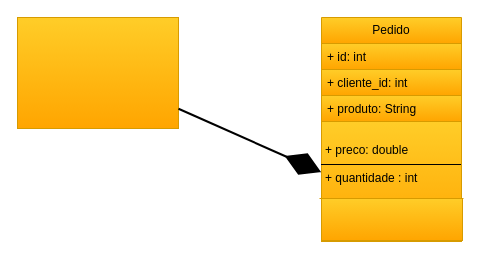
The diagram is 481 pixels wide and 261 high, and some of its shapes have lost their labels. Here are the shapes that lost their labels. From the top down, the centre of each, then its label:
(x=97, y=72): Cliente - id: int - cpf: String - nome: String
(x=391, y=219): + subtotal(): double
